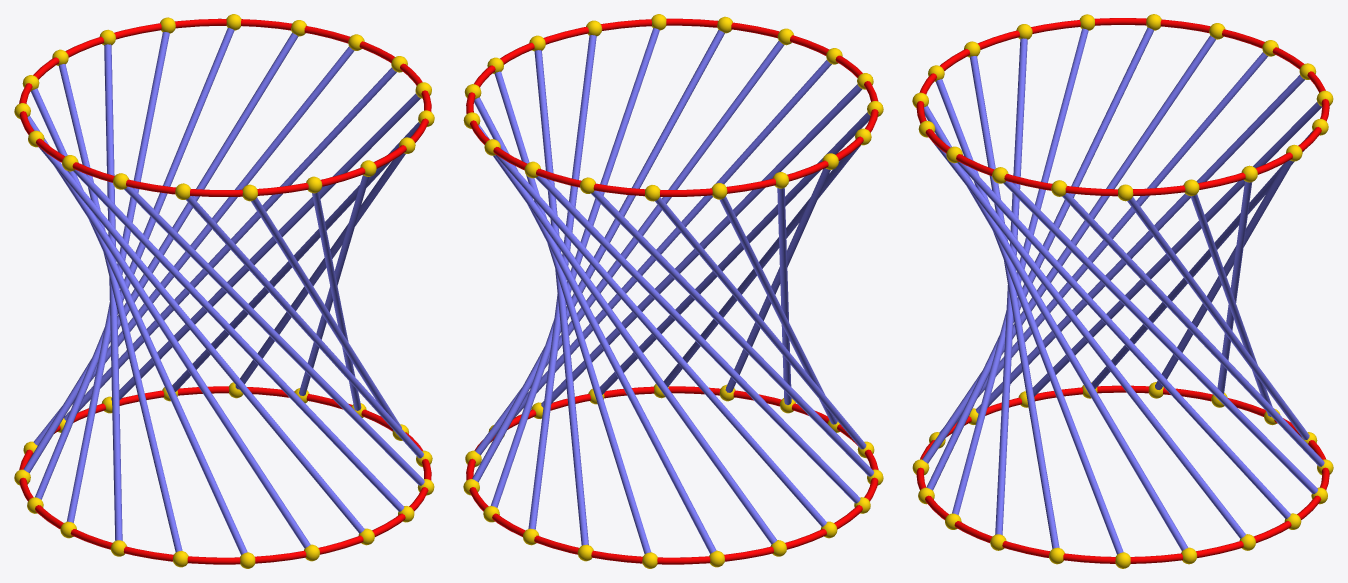
File: ruled-surface.dae
The picture shows the model from 3 angles, left to right: view 1: azimuth 30°, elevation 25°; view 2: azimuth 150°, elevation 25°; view 3: azimuth 270°, elevation 25°; orthographic projection.
Parts seen in each view (by area): view 1: d, c, null_55, null_56, null_54, null_53, null_51, null_57, null_49, null_52, null_50, null_48 (+9 smaller); view 2: d, c, null_48, null_49, null_50, null_47, null_45, null_44, null_42, null_46, null_43, null_51 (+9 smaller); view 3: d, c, null_42, null_43, null_41, null_44, null_57, null_40, null_58, null_55, null_56, null_54 (+9 smaller).
Part boxes in pixels (left/top/right/bottom): d: left=19, top=18, right=431, bottom=196; c: left=19, top=386, right=431, bottom=564; null_55: left=38, top=147, right=364, bottom=533; null_56: left=73, top=169, right=403, bottom=511; null_54: left=27, top=115, right=310, bottom=548; null_53: left=31, top=88, right=247, bottom=554; null_51: left=104, top=44, right=122, bottom=540; null_57: left=124, top=186, right=424, bottom=485; null_49: left=35, top=27, right=234, bottom=499; null_52: left=59, top=64, right=182, bottom=552; null_50: left=66, top=32, right=169, bottom=522; null_48: left=23, top=32, right=298, bottom=473; d: left=466, top=18, right=878, bottom=196; c: left=466, top=386, right=878, bottom=564; null_48: left=478, top=124, right=776, bottom=544; null_49: left=495, top=155, right=826, bottom=526; null_50: left=535, top=176, right=860, bottom=503; null_47: left=474, top=97, right=716, bottom=553; null_45: left=534, top=50, right=588, bottom=545; null_44: left=528, top=35, right=596, bottom=529; null_42: left=472, top=30, right=724, bottom=482; null_46: left=494, top=71, right=650, bottom=553; null_43: left=491, top=28, right=659, bottom=507; null_51: left=591, top=190, right=874, bottom=476; d: left=916, top=18, right=1329, bottom=196; c: left=916, top=385, right=1329, bottom=563; null_42: left=933, top=143, right=1245, bottom=538; null_43: left=957, top=162, right=1290, bottom=518; null_41: left=924, top=105, right=1187, bottom=550; null_44: left=1003, top=181, right=1317, bottom=493; null_57: left=995, top=38, right=1027, bottom=534; null_40: left=936, top=79, right=1123, bottom=554; null_58: left=970, top=56, right=1059, bottom=548; null_55: left=926, top=27, right=1153, bottom=490; null_56: left=952, top=28, right=1088, bottom=514; null_54: left=922, top=35, right=1215, bottom=463.
Bounding box in the file's own units: 4.14 × 4.15 × 4.17.
